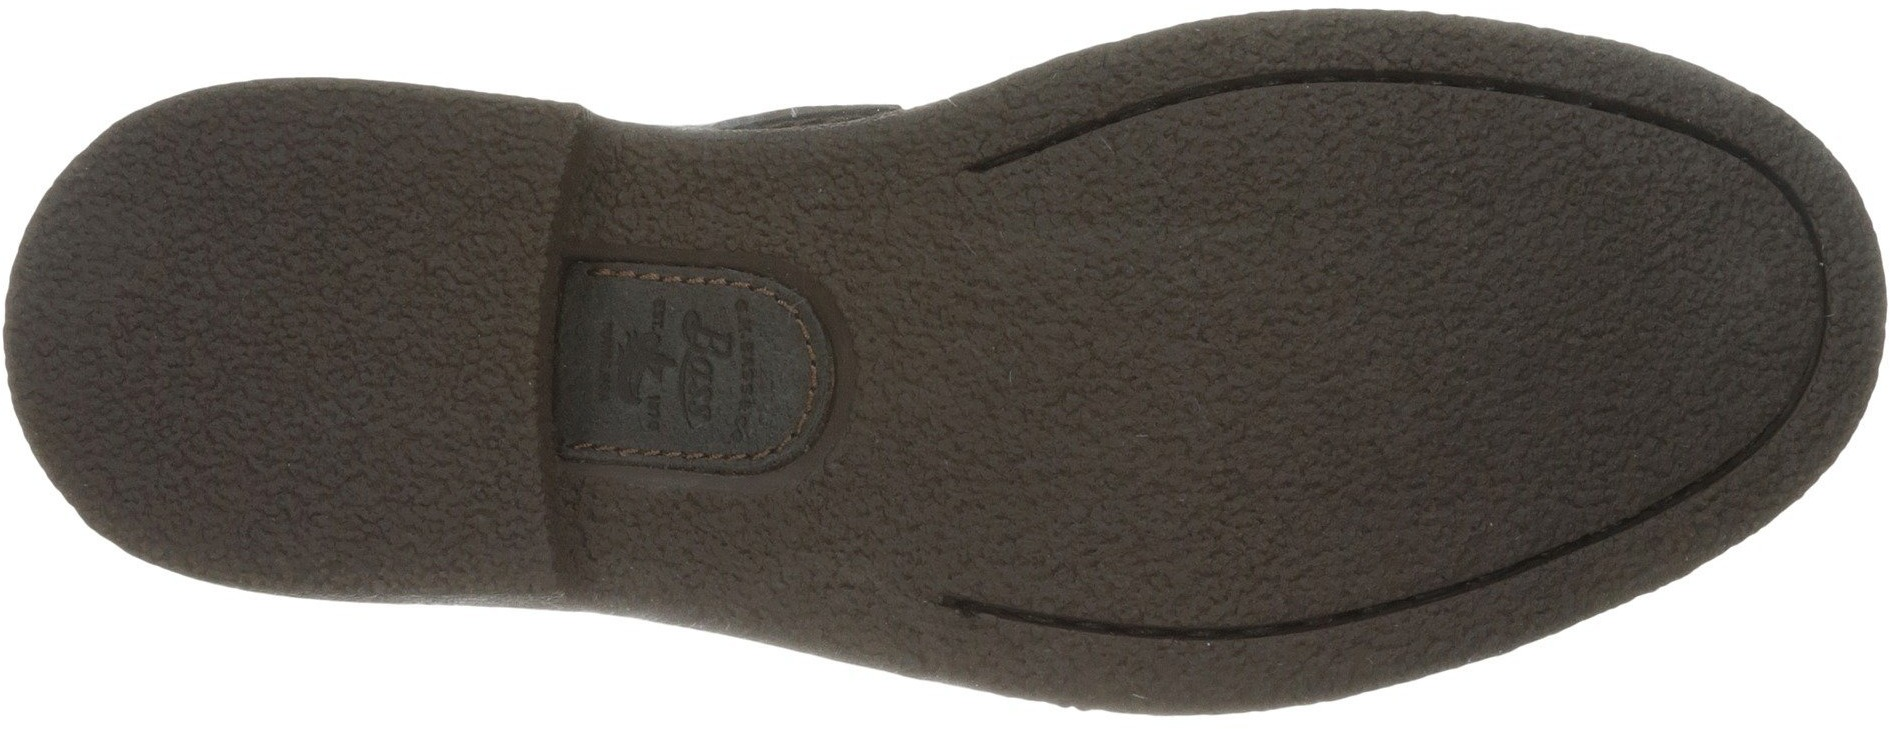exclude: (540, 48, 986, 699)
other: (1223, 114, 1572, 464), (896, 190, 1208, 480), (74, 188, 387, 475), (1585, 207, 1794, 404)
text: (605, 298, 758, 445)
